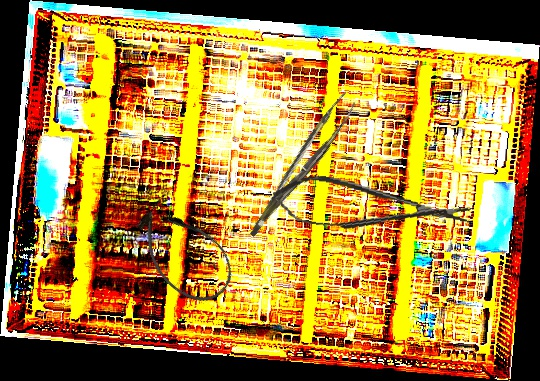Cannula: (121, 189, 246, 317)
Micro Scissor: (269, 169, 473, 246)
Tissue Forceps: (233, 90, 366, 238)
